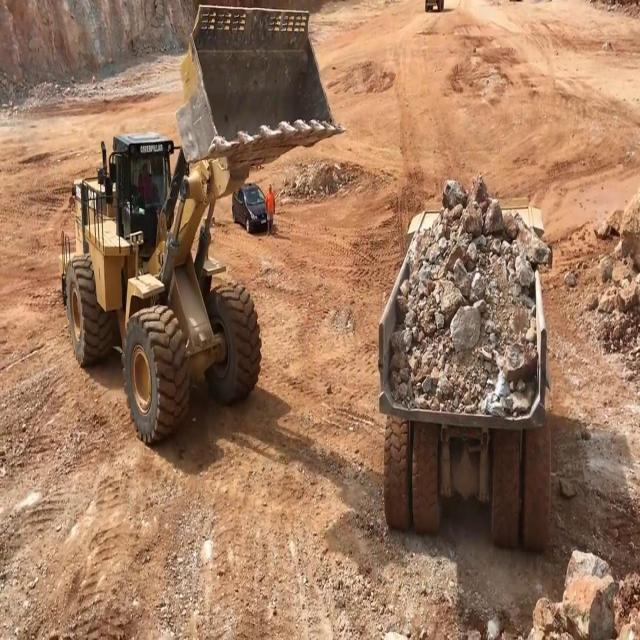Dump Truck: (378, 194, 552, 553)
Loader: (58, 2, 346, 444)
